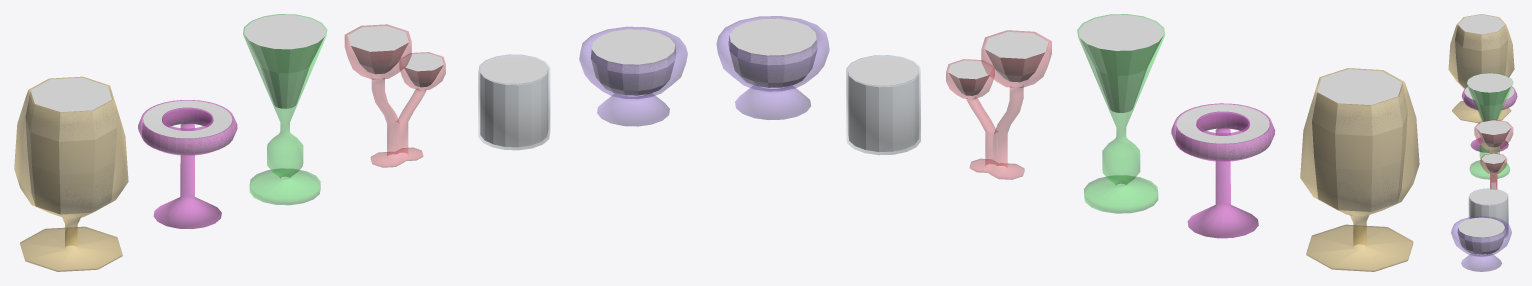
File: mapa.fbx
The picture shows the model from 3 angles, left to right: view 1: azimuth 30°, elevation 25°; view 2: azimuth 150°, elevation 25°; view 3: azimuth 270°, elevation 25°; orthographic projection. The views are drawn at different scales.
Parts seen in each view (by area): view 1: glass3, liquid3, glass1, liquid2, glass5, glass6, glass2, glass4, liquid1, liquid5, liquid6, liquid4.2 (+1 smaller); view 2: glass3, liquid3, glass1, liquid2, glass5, glass6, glass2, glass4, liquid1, liquid5, liquid6, liquid4.2 (+1 smaller); view 3: glass3, liquid3, glass5, glass1, liquid5, liquid1, liquid2, glass4, glass2, liquid4.2, glass6, liquid6 (+1 smaller).
Part boxes in pixels (x1=…): glass3: x1=14, y1=76, x2=128, y2=271; liquid3: x1=25, y1=77, x2=117, y2=214; glass1: x1=243, y1=14, x2=327, y2=205; liquid2: x1=480, y1=56, x2=548, y2=147; glass5: x1=579, y1=26, x2=687, y2=126; glass6: x1=138, y1=100, x2=237, y2=228; glass2: x1=478, y1=54, x2=550, y2=150; glass4: x1=344, y1=24, x2=445, y2=167; liquid1: x1=244, y1=15, x2=325, y2=108; liquid5: x1=590, y1=29, x2=676, y2=95; liquid6: x1=142, y1=100, x2=233, y2=154; liquid4.2: x1=347, y1=26, x2=408, y2=74; glass3: x1=1300, y1=68, x2=1419, y2=271; liquid3: x1=1312, y1=69, x2=1407, y2=211; glass1: x1=1077, y1=14, x2=1165, y2=213; liquid2: x1=848, y1=57, x2=919, y2=151; glass5: x1=716, y1=16, x2=829, y2=119; glass6: x1=1171, y1=103, x2=1275, y2=238; glass2: x1=846, y1=55, x2=920, y2=155; glass4: x1=946, y1=30, x2=1051, y2=179; liquid1: x1=1078, y1=15, x2=1163, y2=112; liquid5: x1=728, y1=18, x2=817, y2=87; liquid6: x1=1175, y1=104, x2=1270, y2=160; liquid4.2: x1=984, y1=32, x2=1048, y2=82; glass3: x1=1448, y1=14, x2=1514, y2=123; liquid3: x1=1455, y1=14, x2=1507, y2=87; glass5: x1=1451, y1=216, x2=1511, y2=271; glass1: x1=1466, y1=72, x2=1513, y2=179; liquid5: x1=1457, y1=217, x2=1505, y2=254; liquid1: x1=1467, y1=73, x2=1512, y2=121; liquid2: x1=1469, y1=189, x2=1507, y2=235; glass4: x1=1474, y1=119, x2=1513, y2=189; glass2: x1=1468, y1=188, x2=1508, y2=238; liquid4.2: x1=1476, y1=120, x2=1511, y2=147; glass6: x1=1462, y1=86, x2=1517, y2=152; liquid6: x1=1464, y1=86, x2=1515, y2=109.
Size of the model in its own units: 1789 by 411 by 290.
